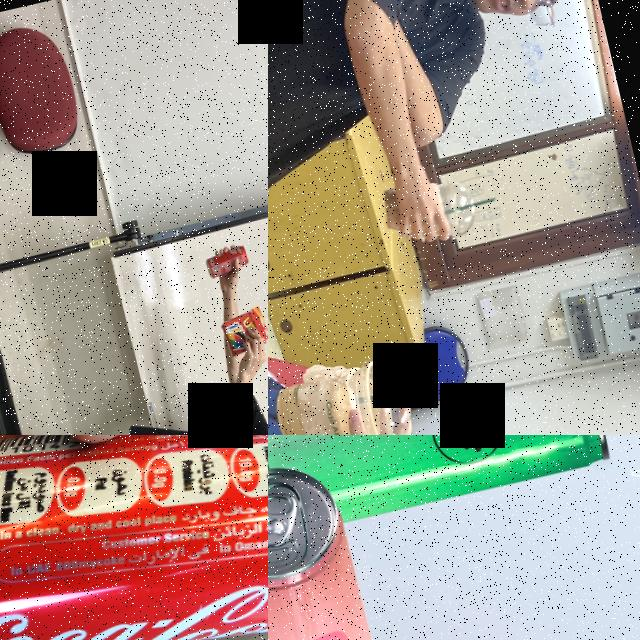can: (0, 435, 268, 640), (268, 435, 612, 541), (268, 452, 399, 640), (200, 242, 252, 282)
cup: (269, 356, 417, 435), (378, 172, 480, 252)
